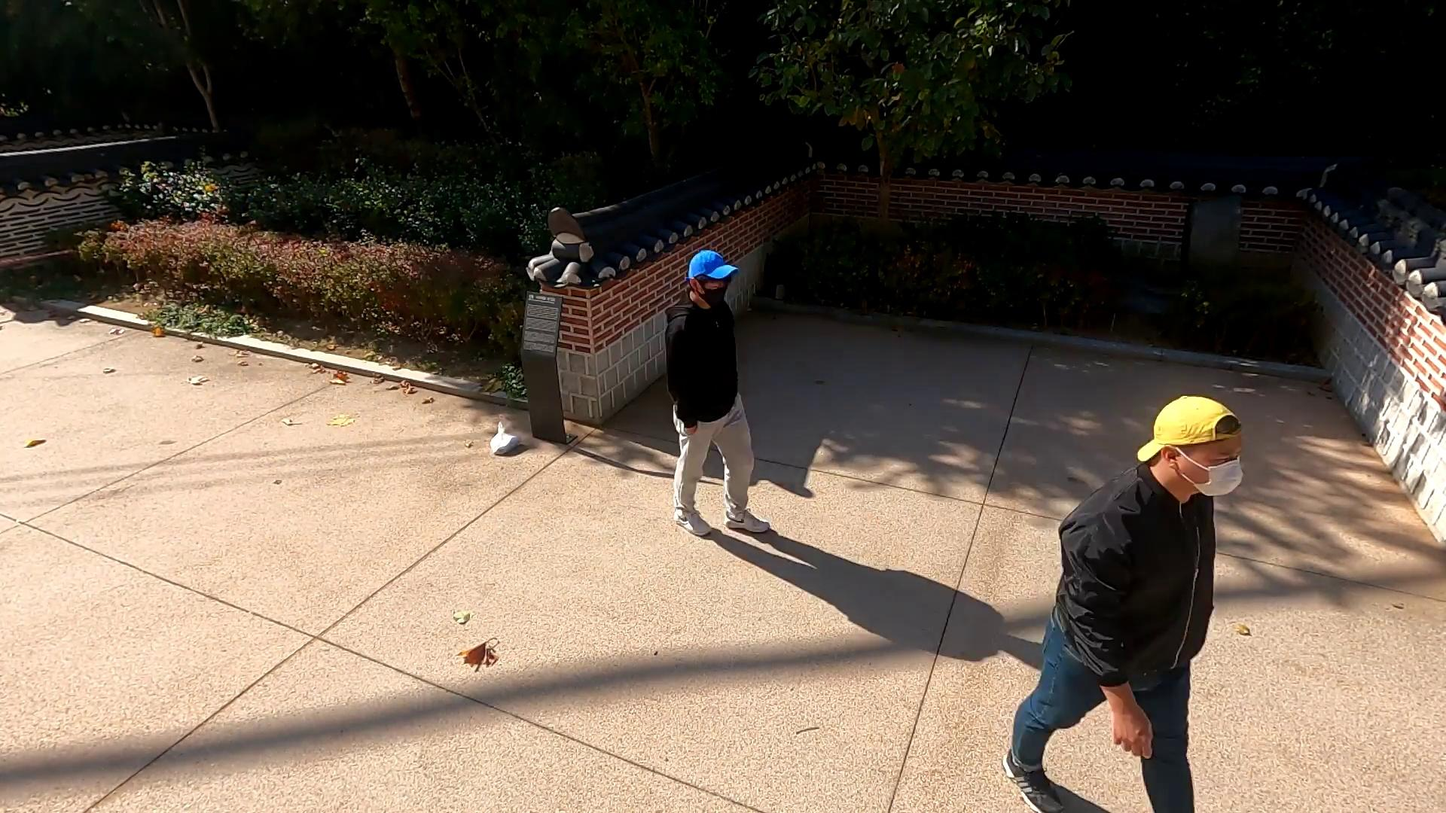person: (1009, 390, 1251, 813), (657, 243, 778, 545)
trash: (489, 421, 522, 457)
